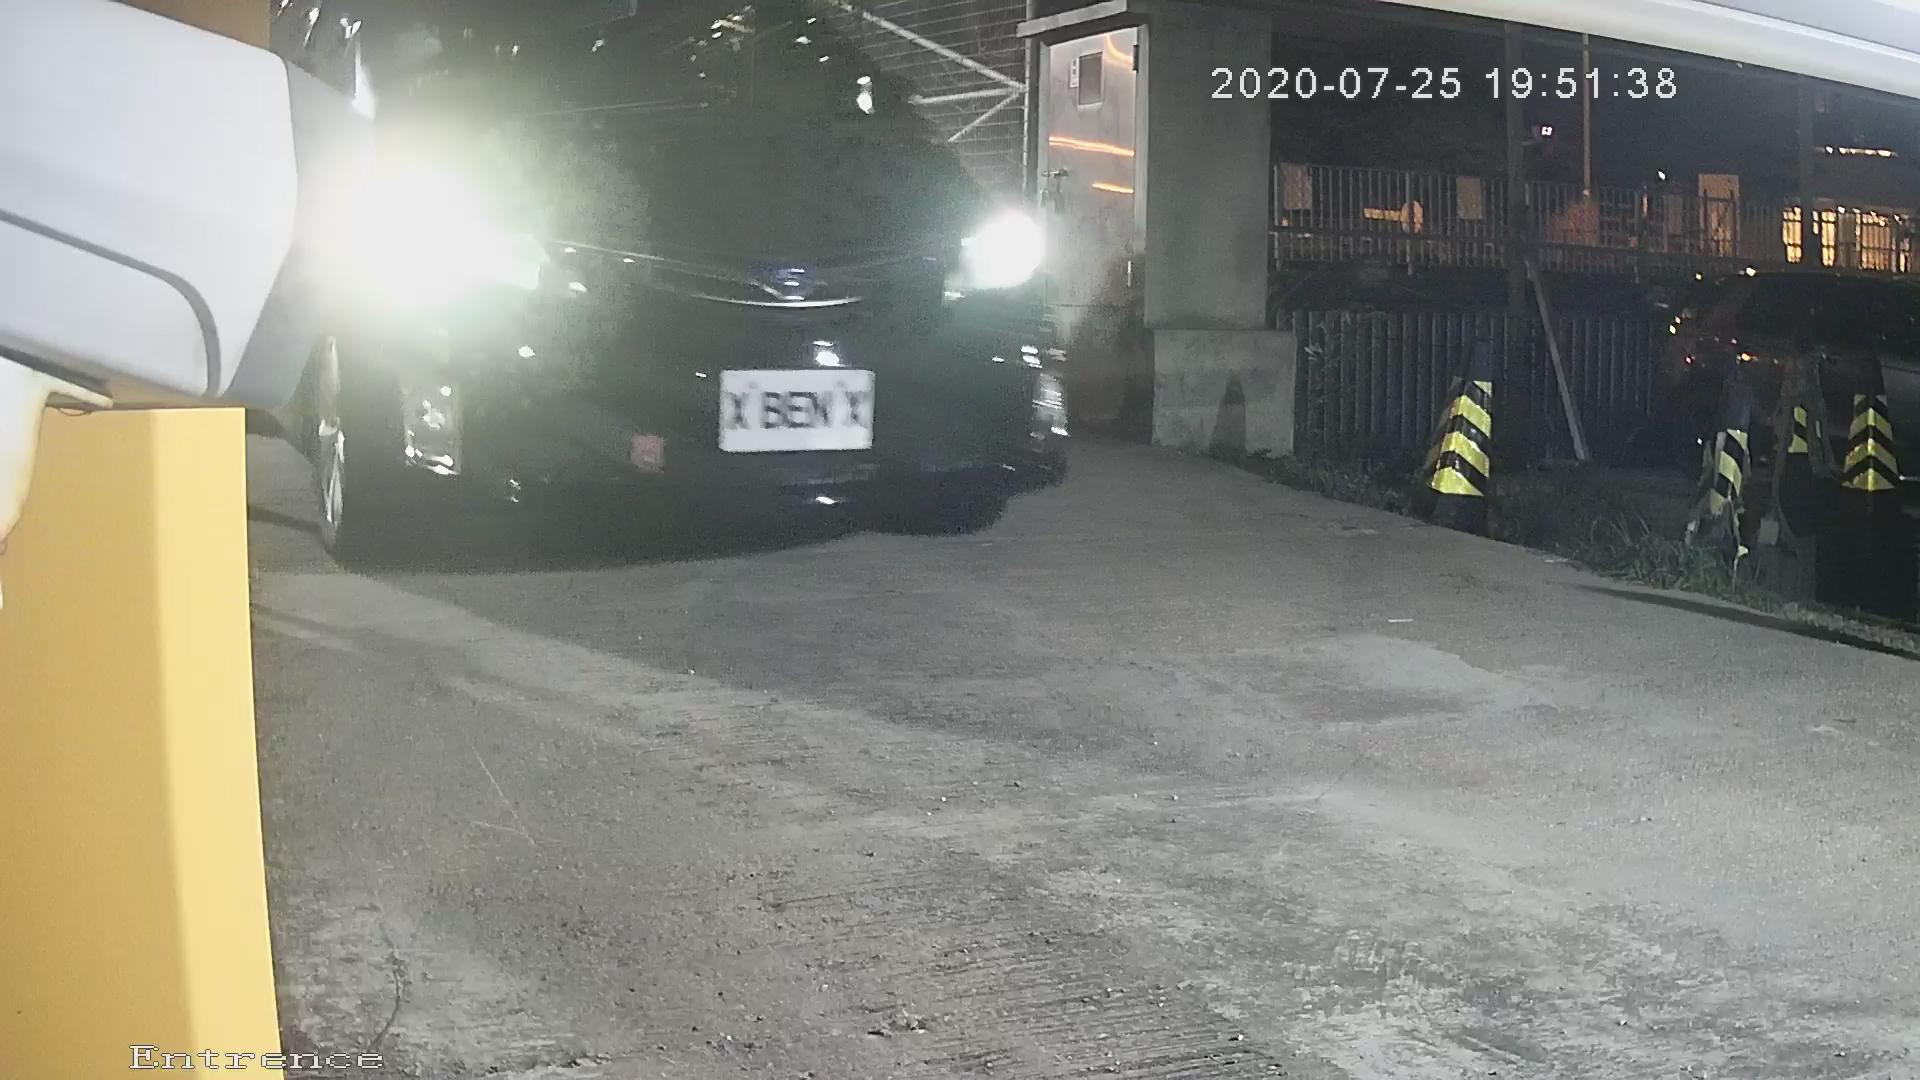Car: (61, 1, 1243, 656)
License Plate: (691, 352, 897, 468)
